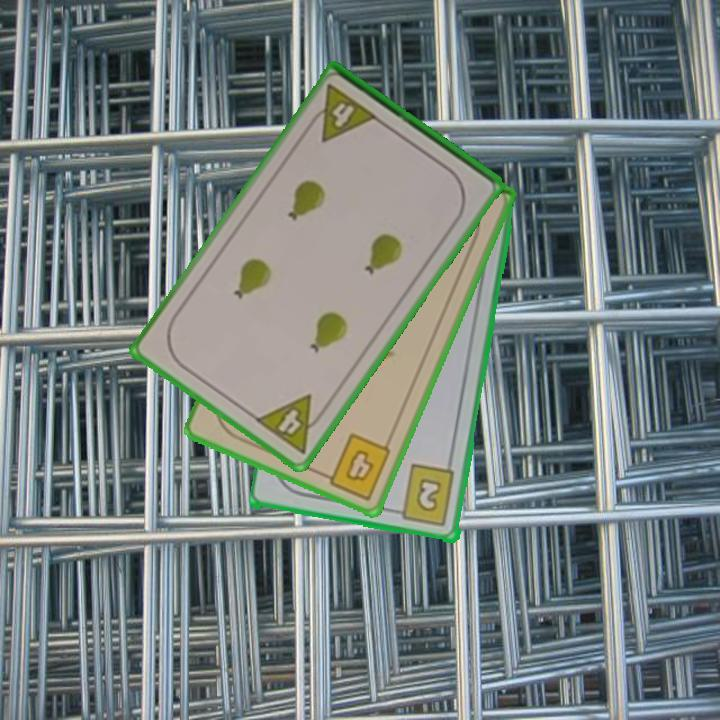2b: (389, 462, 458, 530)
4b: (317, 430, 394, 503)
4p: (251, 391, 331, 458), (303, 81, 381, 145)
